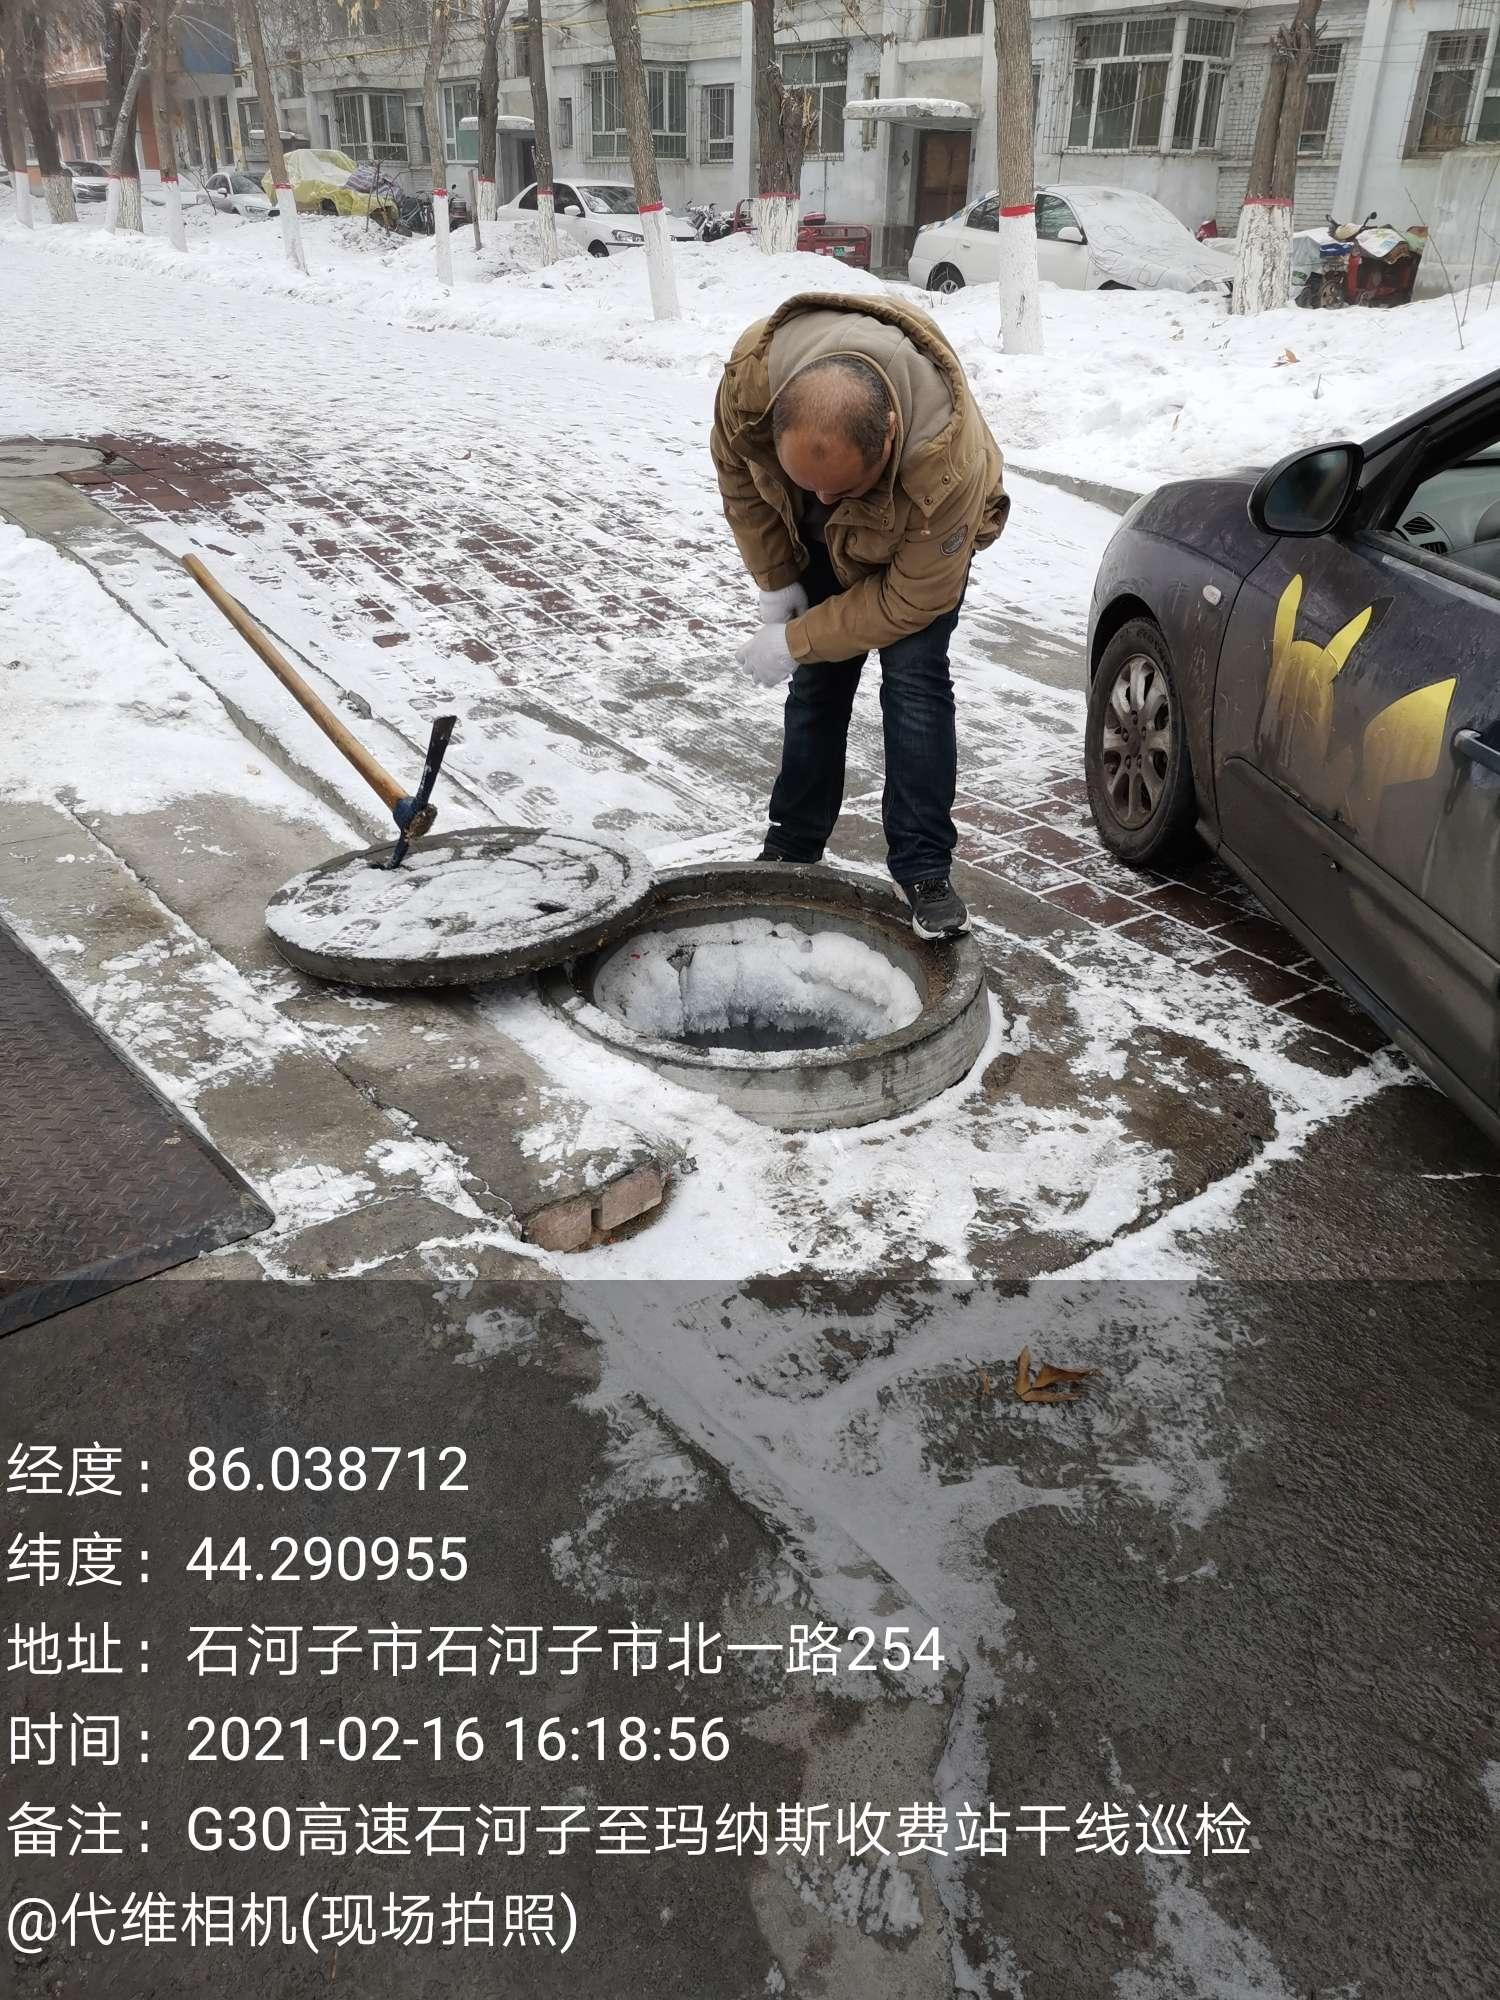wellcover: (241, 822, 1013, 1106)
